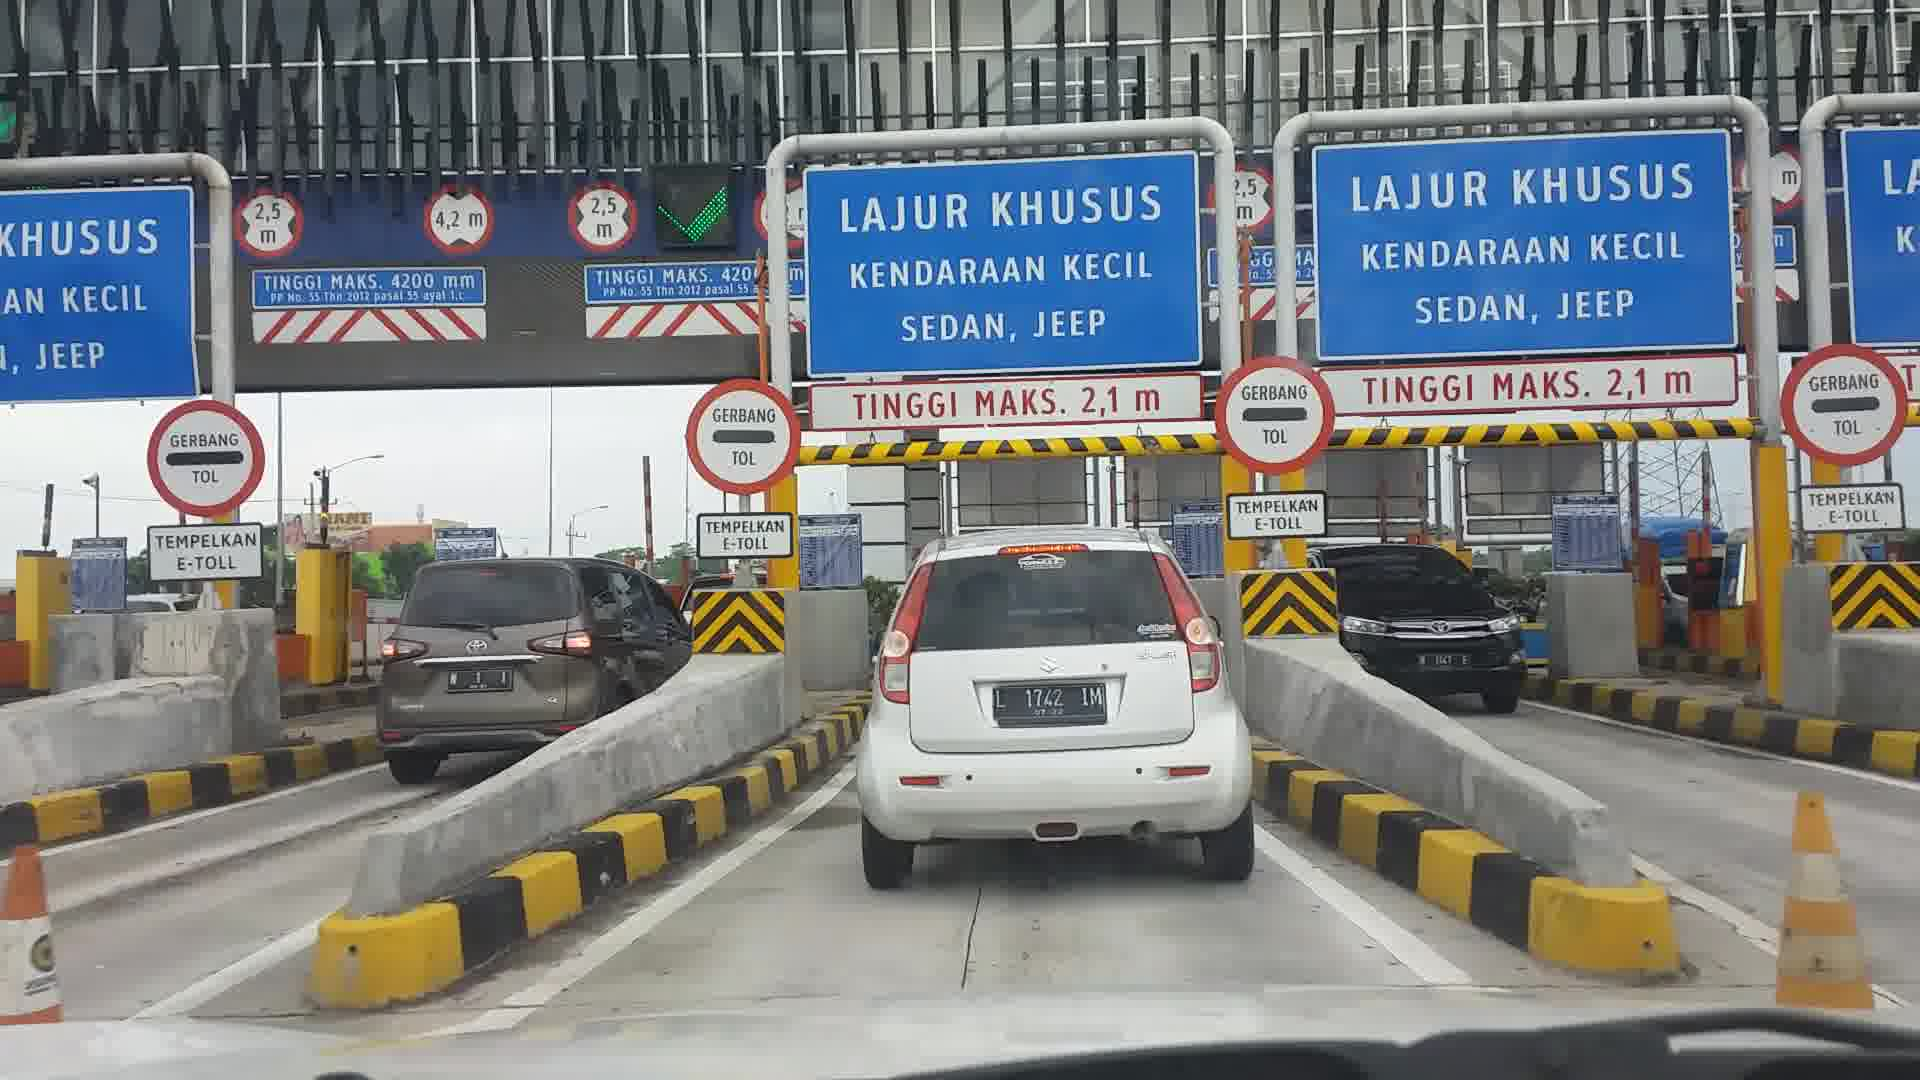plate_positive: (992, 684, 1106, 725), (447, 669, 509, 692)
